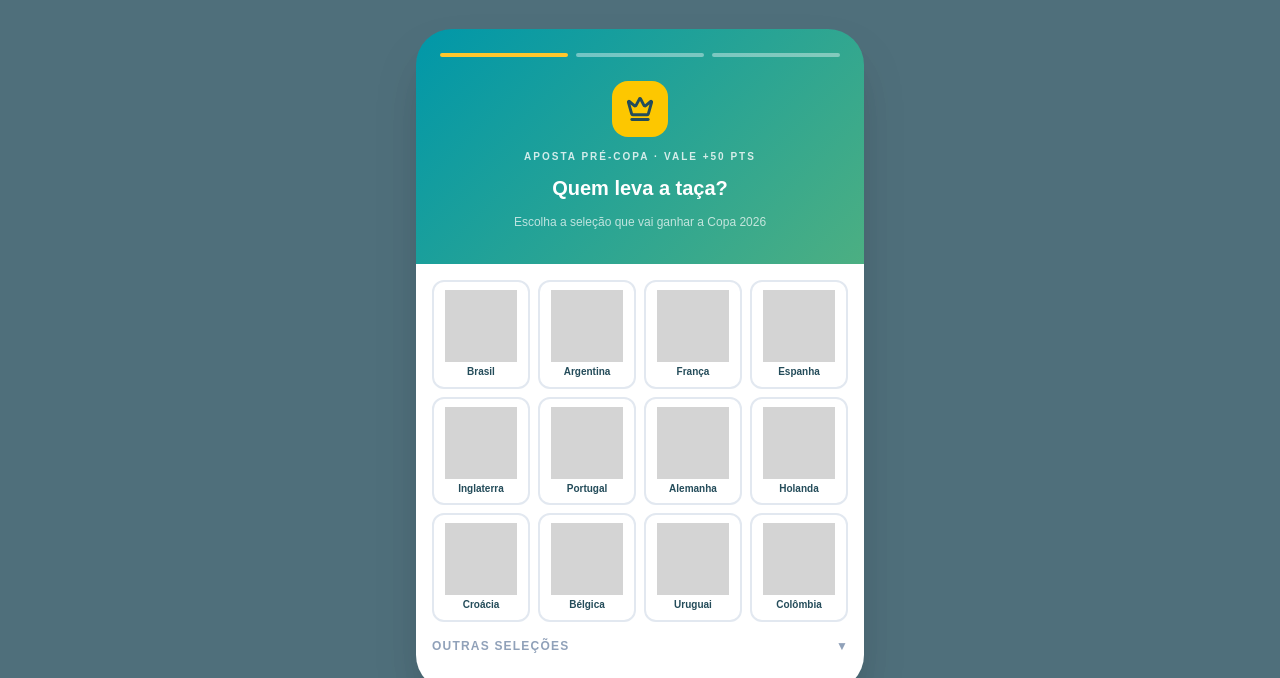
Scenario: PreCopaBetModal › "← Voltar" on step 2 returns to step 1 with the champion still selected
The image size is (1280, 678).
Click the button with test id "team-card-br" at x=481, y=335, box [432,280,530,389]
(page scrolled)
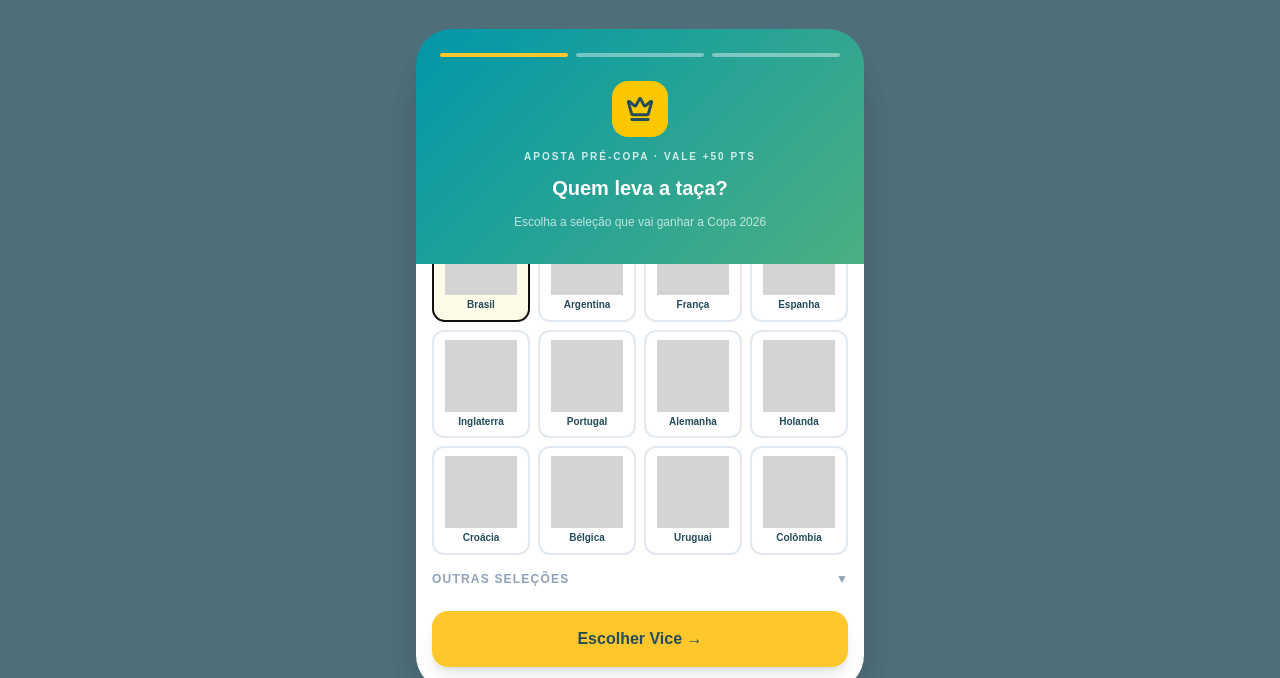
Click the button "Escolher Vice →" at x=640, y=639, box [432,611,848,667]
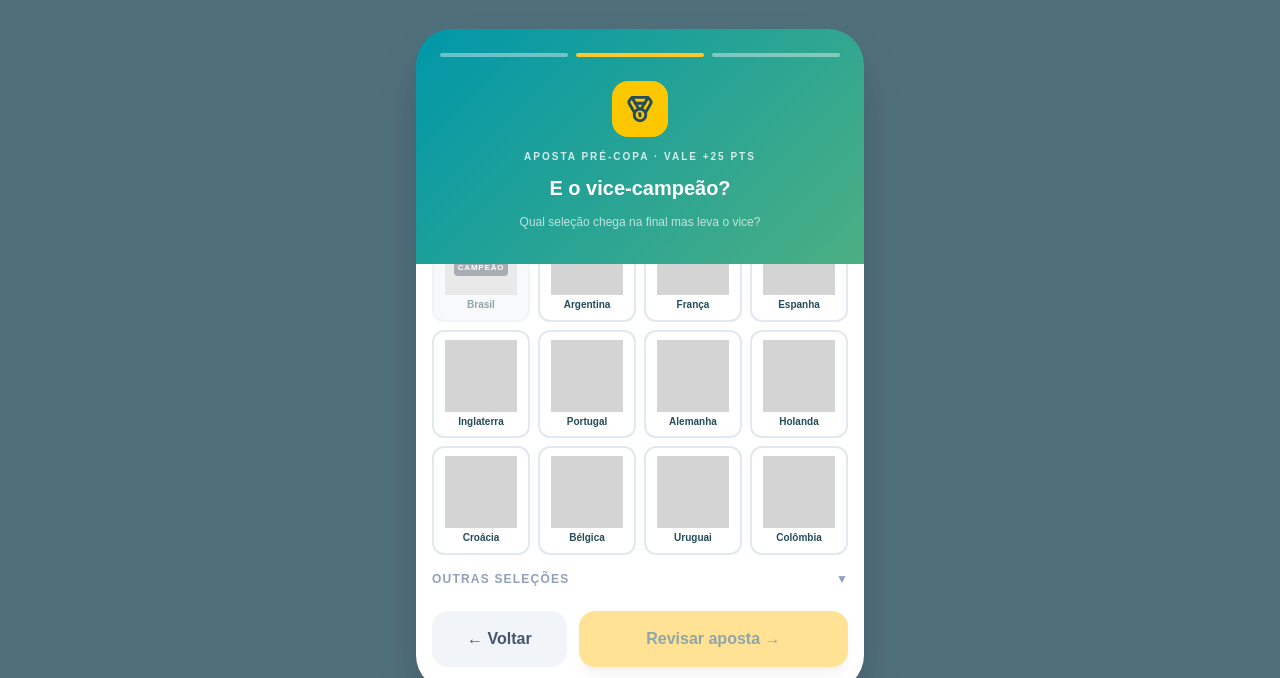
expect the heading "E o vice-campeão?" is shown: met, box [549,176,731,201]
Click the button "← Voltar" at x=499, y=639, box [432,611,567,667]
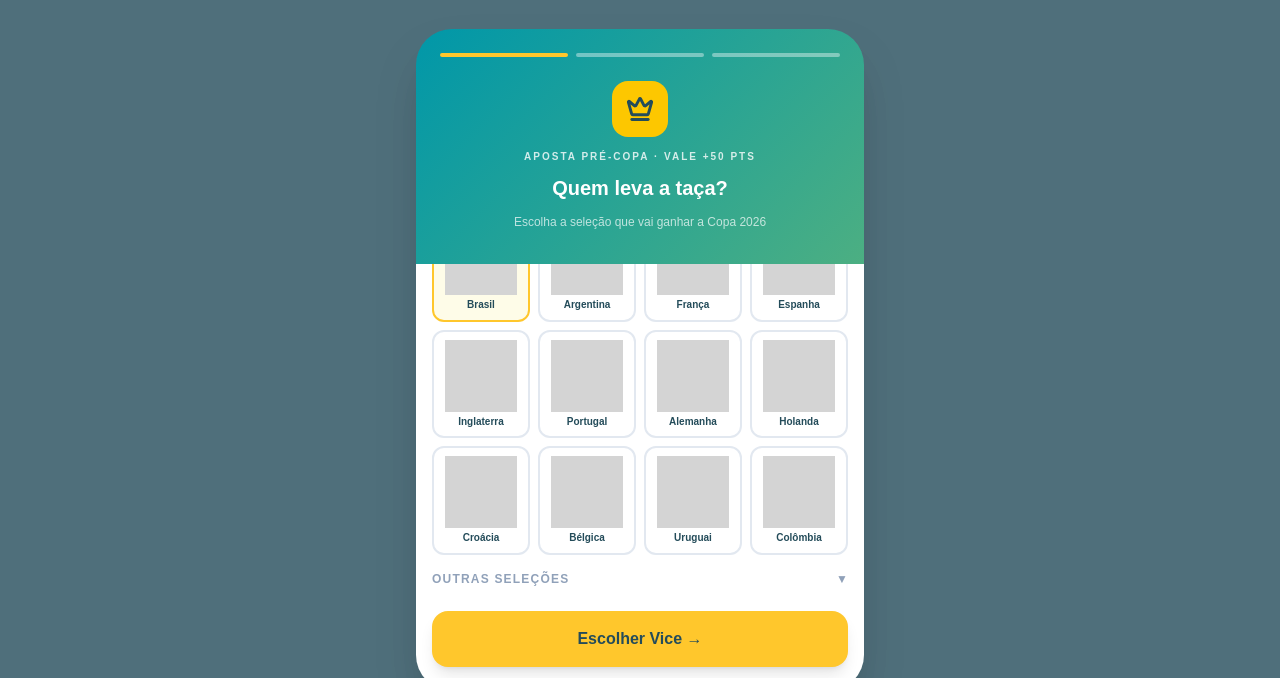
expect the heading "Quem leva a taça?" is shown: met, box [552,176,728,201]
expect the button "Escolher Vice →" is enabled: met, box [432,611,848,667]
